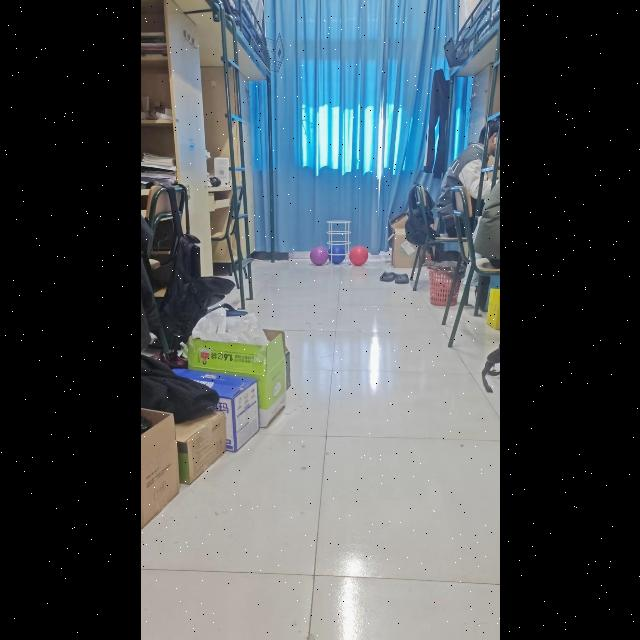B: (330, 247, 344, 263)
P: (309, 245, 329, 265)
R: (348, 247, 368, 266)
S: (327, 220, 349, 266)
